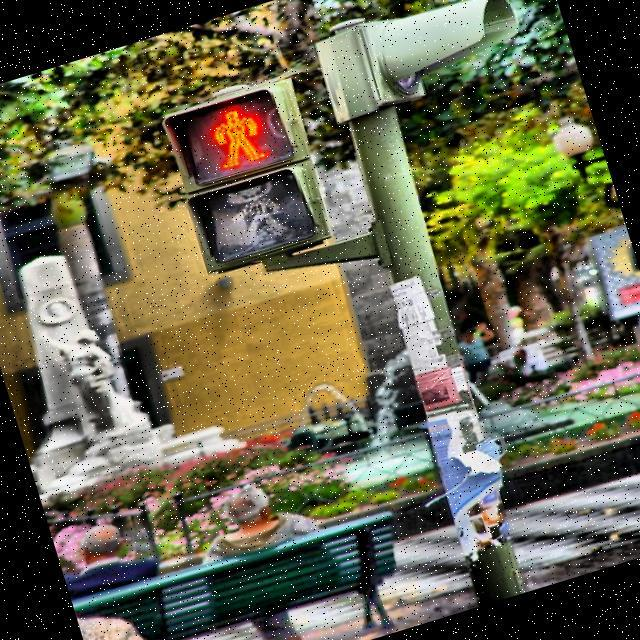red_light: (203, 102, 270, 174)
